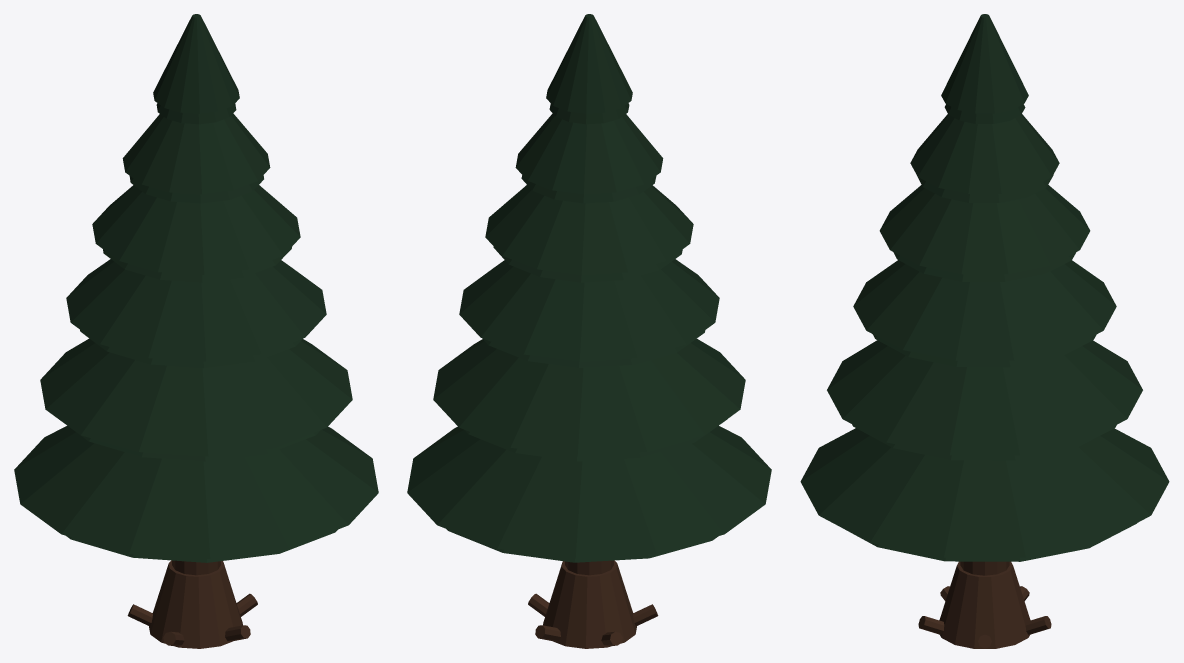
Rendered from Detailed_PineTree.obj.
The picture shows the model from 3 angles, left to right: view 1: azimuth 30°, elevation 25°; view 2: azimuth 150°, elevation 25°; view 3: azimuth 270°, elevation 25°; orthographic projection.
Visible parts, largest first — view 1: Tier_1_Low_ConeA, Tier_2_MidLow_ConeA, Tier_3_Mid_ConeA, Tier_4_MidHigh_ConeA, Tier_5_High_ConeA, Tree_RootBase, Tier_6_Peak_ConeA, Tier_4_MidHigh_ConeB, Tier_3_Mid_ConeB, Tier_5_High_ConeB, Tier_2_MidLow_ConeB, Tier_1_Low_ConeB (+2 smaller); view 2: Tier_1_Low_ConeA, Tier_2_MidLow_ConeA, Tier_3_Mid_ConeA, Tier_4_MidHigh_ConeA, Tier_5_High_ConeA, Tree_RootBase, Tier_6_Peak_ConeA, Tier_4_MidHigh_ConeB, Tier_3_Mid_ConeB, Tier_5_High_ConeB, Tier_2_MidLow_ConeB, Tier_1_Low_ConeB (+2 smaller); view 3: Tier_1_Low_ConeA, Tier_2_MidLow_ConeA, Tier_3_Mid_ConeA, Tier_4_MidHigh_ConeA, Tier_5_High_ConeA, Tree_RootBase, Tier_6_Peak_ConeA, Tier_3_Mid_ConeB, Tier_4_MidHigh_ConeB, Tier_2_MidLow_ConeB, Tier_5_High_ConeB, Tier_1_Low_ConeB (+2 smaller).
Boxes of the visible parts, bbox=[...] form: Tier_1_Low_ConeA: bbox=[14, 425, 378, 558]; Tier_2_MidLow_ConeA: bbox=[40, 338, 352, 456]; Tier_3_Mid_ConeA: bbox=[66, 259, 326, 361]; Tier_4_MidHigh_ConeA: bbox=[92, 185, 300, 274]; Tier_5_High_ConeA: bbox=[122, 113, 270, 194]; Tree_RootBase: bbox=[149, 560, 242, 648]; Tier_6_Peak_ConeA: bbox=[153, 14, 239, 113]; Tier_4_MidHigh_ConeB: bbox=[103, 247, 291, 282]; Tier_3_Mid_ConeB: bbox=[80, 330, 302, 367]; Tier_5_High_ConeB: bbox=[129, 175, 263, 203]; Tier_2_MidLow_ConeB: bbox=[81, 430, 320, 461]; Tier_1_Low_ConeB: bbox=[66, 529, 337, 562]; Tier_1_Low_ConeA: bbox=[407, 425, 771, 558]; Tier_2_MidLow_ConeA: bbox=[433, 338, 745, 456]; Tier_3_Mid_ConeA: bbox=[459, 259, 719, 361]; Tier_4_MidHigh_ConeA: bbox=[485, 185, 693, 274]; Tier_5_High_ConeA: bbox=[515, 113, 663, 194]; Tree_RootBase: bbox=[543, 560, 636, 648]; Tier_6_Peak_ConeA: bbox=[546, 14, 632, 113]; Tier_4_MidHigh_ConeB: bbox=[493, 247, 682, 282]; Tier_3_Mid_ConeB: bbox=[482, 330, 705, 367]; Tier_5_High_ConeB: bbox=[521, 175, 656, 203]; Tier_2_MidLow_ConeB: bbox=[465, 419, 727, 461]; Tier_1_Low_ConeB: bbox=[446, 529, 718, 562]; Tier_1_Low_ConeA: bbox=[800, 428, 1169, 557]; Tier_2_MidLow_ConeA: bbox=[827, 340, 1142, 455]; Tier_3_Mid_ConeA: bbox=[853, 260, 1116, 360]; Tier_4_MidHigh_ConeA: bbox=[879, 185, 1090, 274]; Tier_5_High_ConeA: bbox=[910, 114, 1059, 193]; Tree_RootBase: bbox=[939, 561, 1030, 648]; Tier_6_Peak_ConeA: bbox=[941, 14, 1028, 113]; Tier_3_Mid_ConeB: bbox=[873, 334, 1096, 367]; Tier_4_MidHigh_ConeB: bbox=[893, 252, 1075, 281]; Tier_2_MidLow_ConeB: bbox=[852, 424, 1116, 460]; Tier_5_High_ConeB: bbox=[918, 175, 1053, 202]; Tier_1_Low_ConeB: bbox=[846, 523, 1136, 561].
Size of the model in its own units: 4.09 by 7.77 by 4.2.
